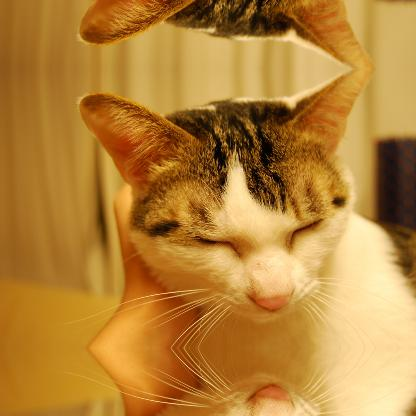Cat: (59, 68, 415, 346), (59, 0, 416, 69), (59, 348, 416, 415)
